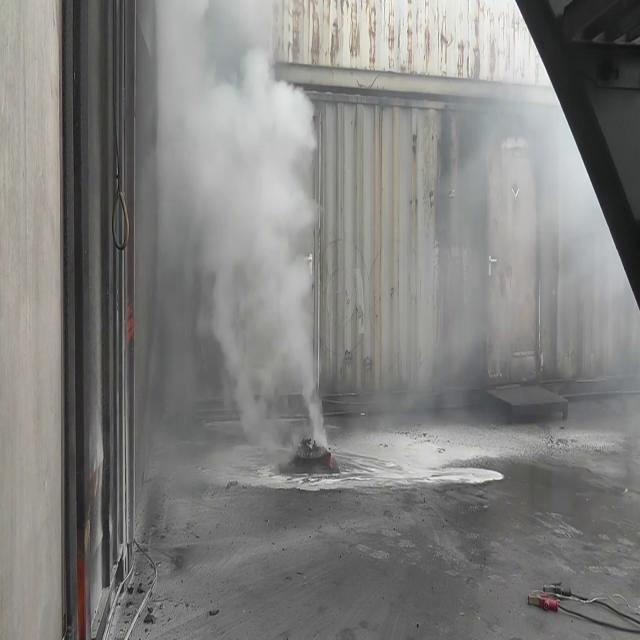Smoke: (140, 2, 332, 472), (400, 108, 611, 396)
